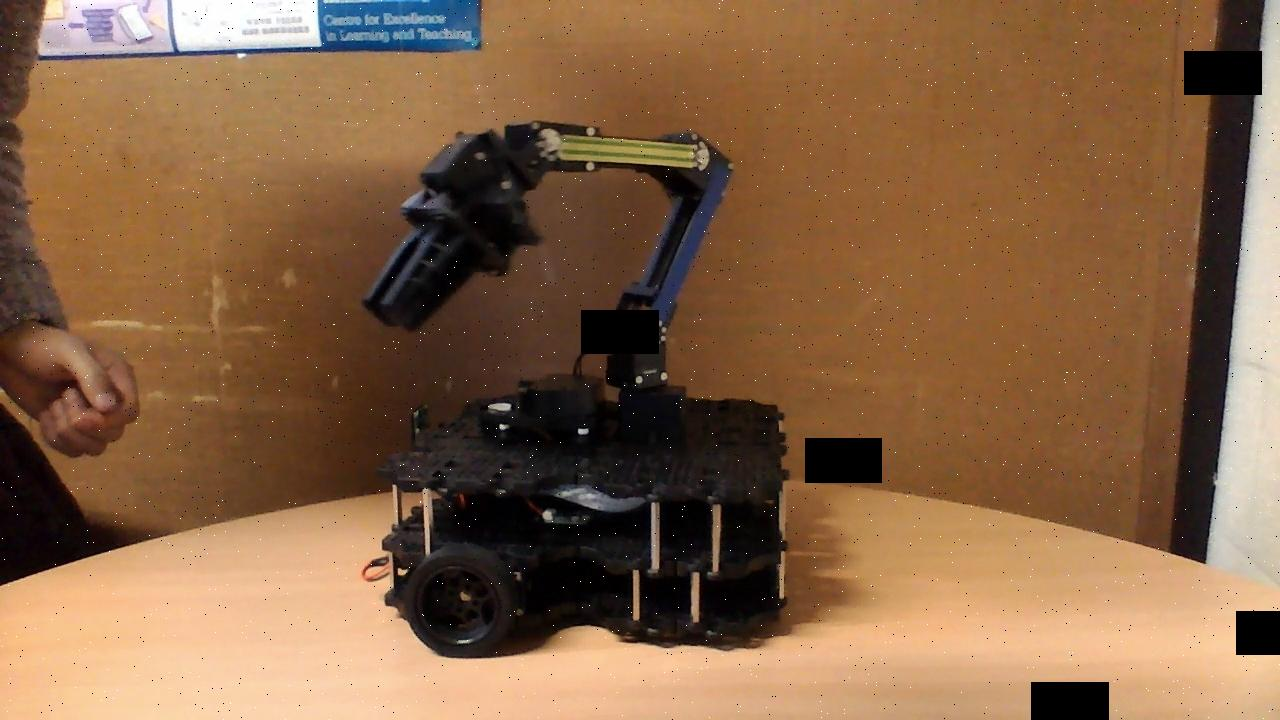Arm: (604, 159, 738, 352)
Hand: (357, 126, 545, 339)
Wrist: (524, 117, 712, 178)
base: (361, 371, 798, 661)
